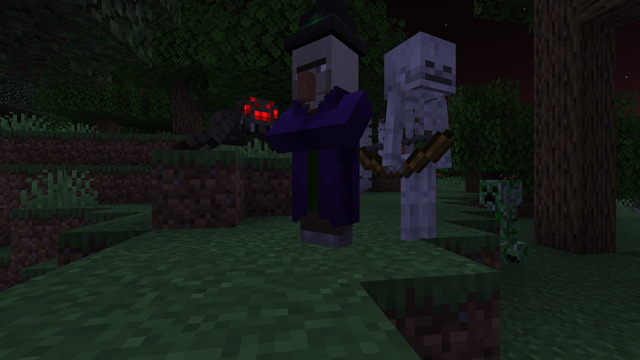araignees: (186, 86, 287, 158)
creepers: (475, 175, 526, 264)
sorcieres: (293, 24, 364, 251)
squelettes: (380, 31, 463, 246)
